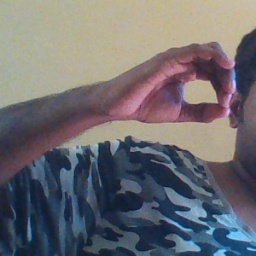O: (114, 36, 238, 132)
